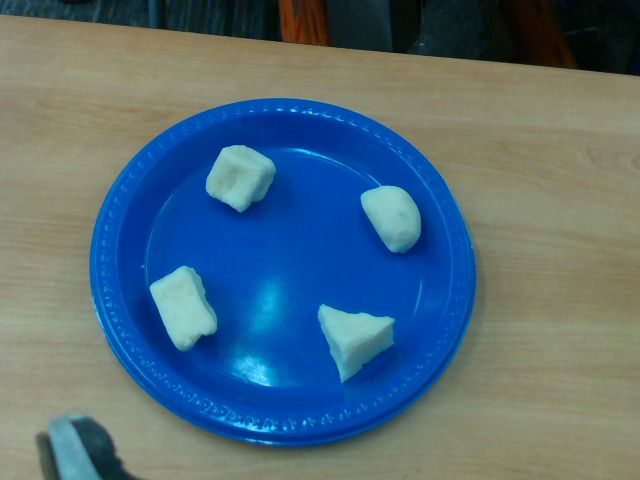mashed_potato: (317, 305, 395, 381), (149, 266, 215, 350), (206, 145, 274, 212), (360, 185, 422, 253)
